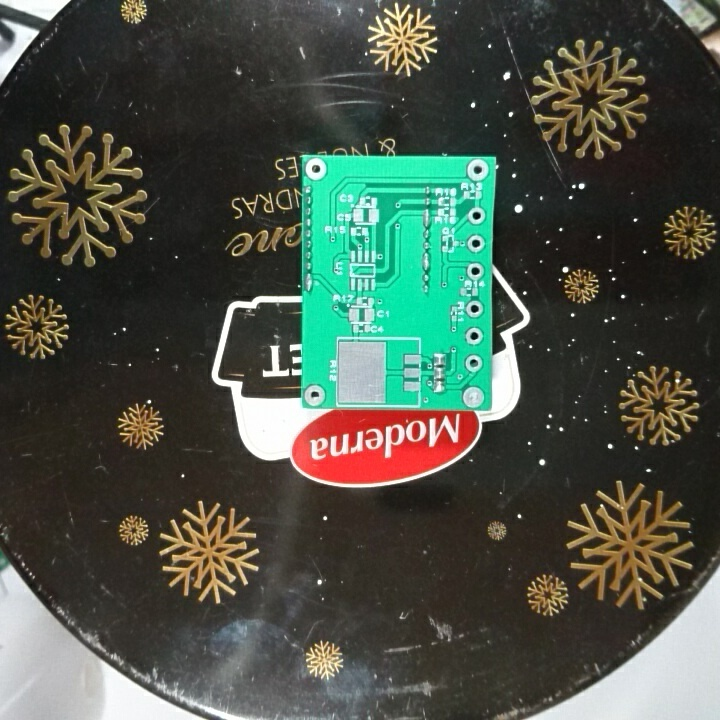F: (460, 383, 485, 409), (303, 156, 328, 182), (465, 158, 491, 181), (302, 383, 327, 406), (465, 234, 486, 255), (467, 204, 487, 226), (463, 352, 482, 375), (465, 260, 484, 282), (463, 326, 484, 345), (464, 300, 484, 319)
P: (420, 250, 433, 273), (421, 206, 432, 229), (304, 271, 314, 292)
